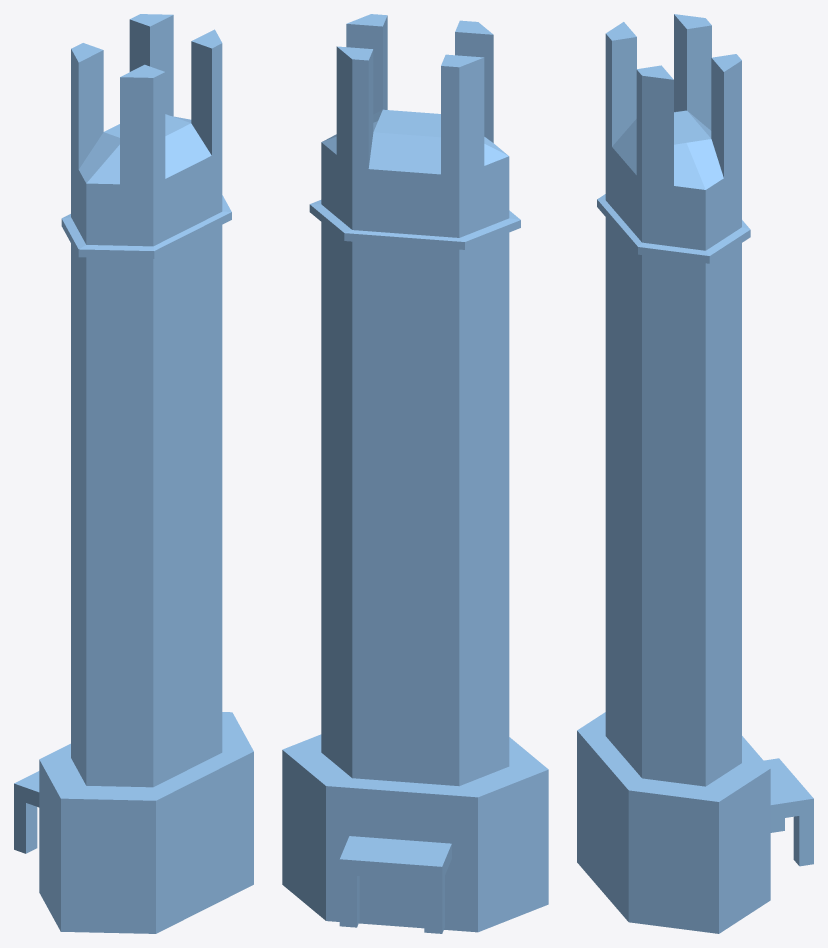
Rendered from Building2.fbx.
3 renders of one model, left to right at view 1: azimuth 30°, elevation 25°; view 2: azimuth 150°, elevation 25°; view 3: azimuth 270°, elevation 25°, orthographic. The views are drawn at different scales.
Visible parts, largest first — view 1: Cube.096; view 2: Cube.096; view 3: Cube.096.
Part boxes in pixels (bbox=[...]): Cube.096: bbox=[14, 14, 253, 933]; Cube.096: bbox=[282, 14, 548, 933]; Cube.096: bbox=[577, 14, 813, 933].
Size of the model in its own units: 1032 by 3823 by 983.
